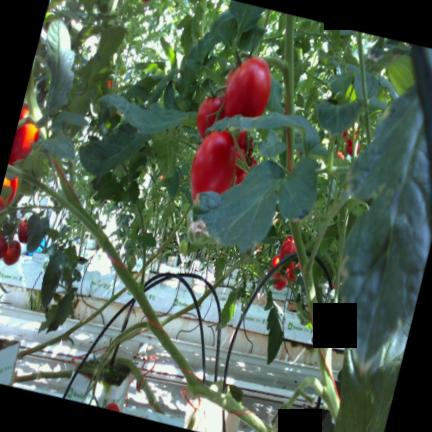6kp_peduncle: (287, 359, 340, 420), (260, 32, 295, 112), (118, 303, 164, 343)
6kp_petiole: (294, 224, 326, 298), (314, 292, 338, 386), (74, 209, 115, 256), (124, 245, 149, 309)
MainStem: (52, 158, 275, 432), (290, 220, 340, 421), (18, 287, 126, 358), (145, 205, 191, 267), (284, 14, 295, 114), (286, 127, 294, 179)
tomato: (190, 130, 236, 199), (223, 56, 270, 116), (9, 103, 38, 161), (196, 96, 224, 137), (0, 177, 18, 209), (3, 240, 20, 264), (278, 235, 295, 258), (272, 267, 288, 290), (17, 219, 28, 242), (286, 261, 300, 279), (0, 235, 7, 258), (271, 254, 279, 266)
